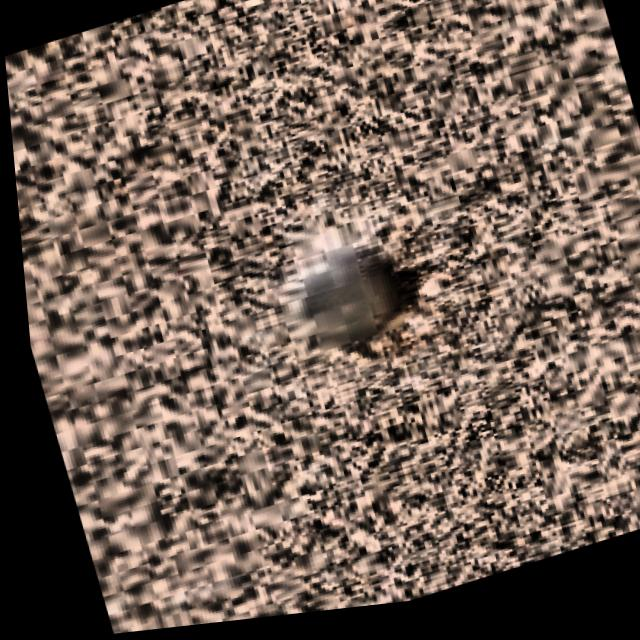Hole: (219, 171, 504, 436)
